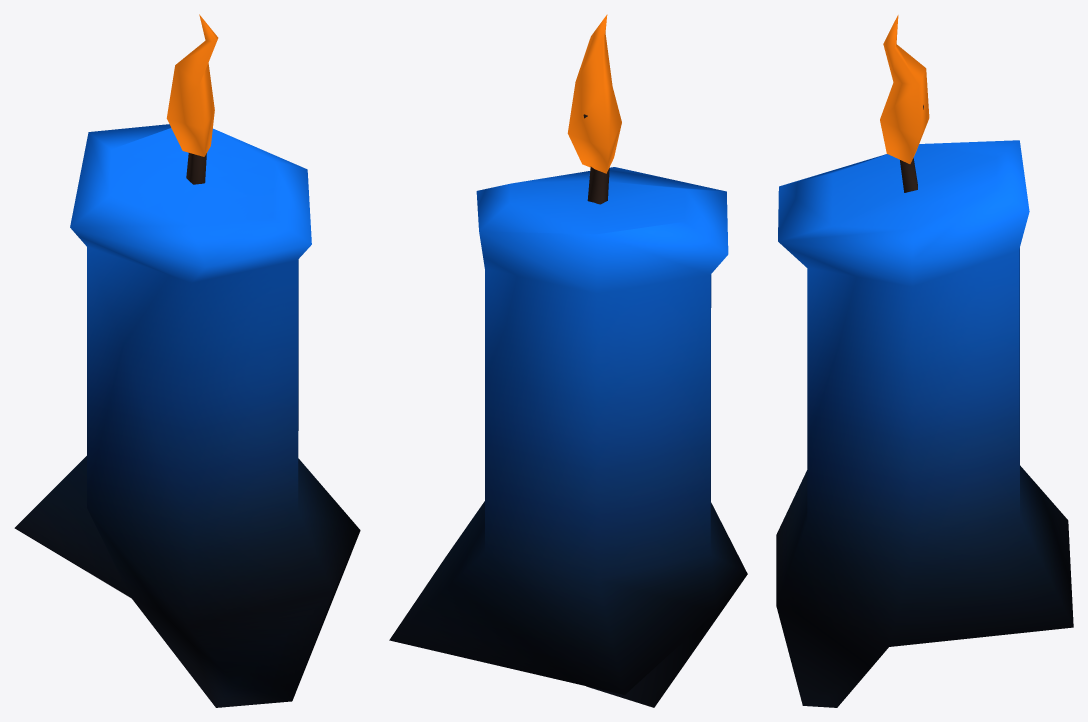
Rendered from CandleShapeE.006.glb.
3 renders of one model, left to right at view 1: azimuth 30°, elevation 25°; view 2: azimuth 150°, elevation 25°; view 3: azimuth 270°, elevation 25°, orthographic. The views are drawn at different scales.
Parts seen in each view (by area): view 1: CandleShapeE.006; view 2: CandleShapeE.006; view 3: CandleShapeE.006.
Part boxes in pixels (bbox=[...]): CandleShapeE.006: bbox=[14, 14, 360, 707]; CandleShapeE.006: bbox=[389, 14, 747, 707]; CandleShapeE.006: bbox=[776, 15, 1073, 707].
Bounding box in the file's own units: 0.1424 × 0.327 × 0.1308.
Materials: 2 (2 with a texture image).
